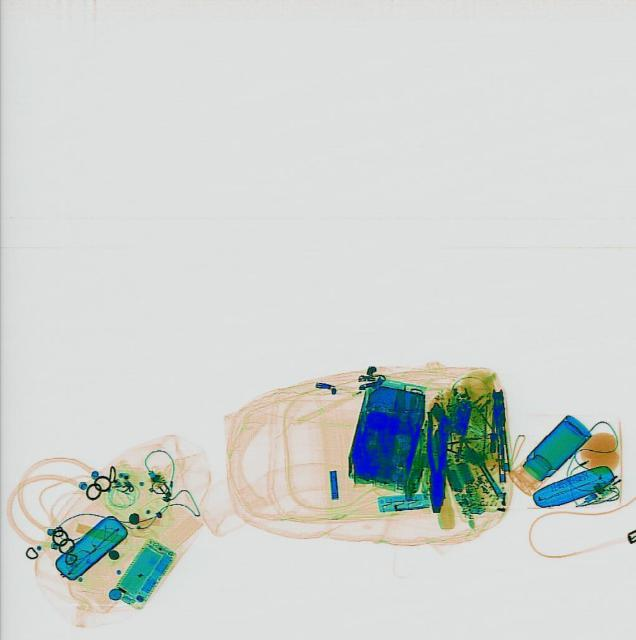Pliers: (422, 411, 445, 513)
